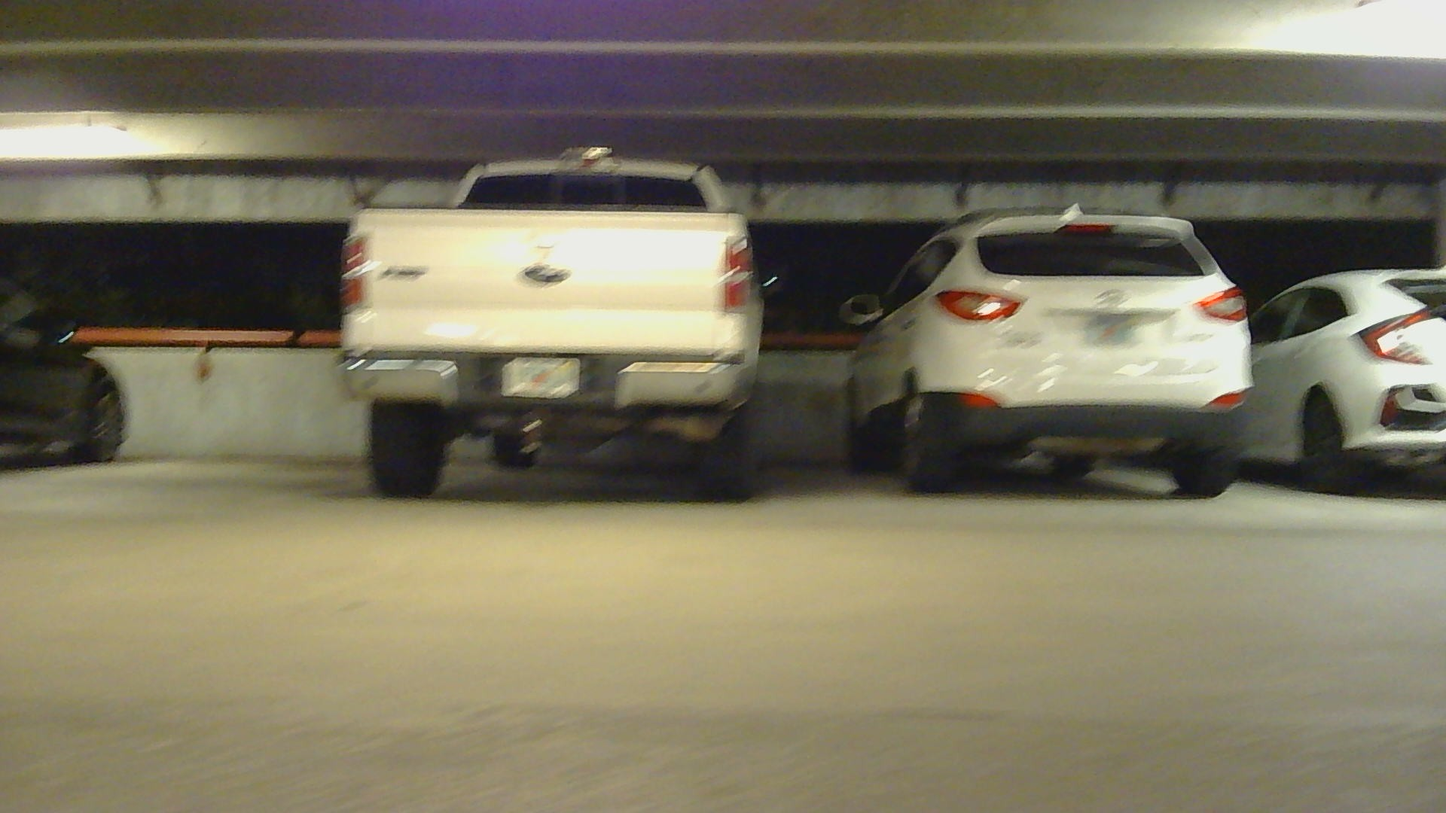empty_spot: (4, 393, 370, 507)
occupied_spot: (344, 149, 768, 496), (834, 199, 1255, 506), (1245, 264, 1446, 493), (0, 276, 129, 480)
